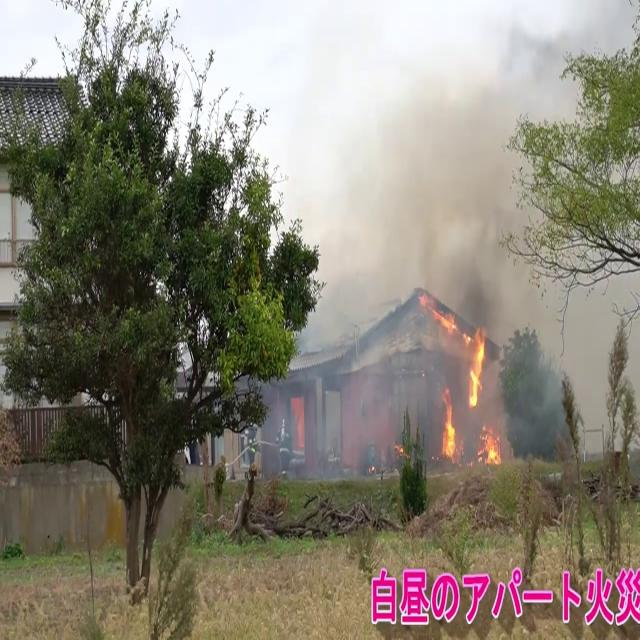Fire: (434, 289, 504, 467), (458, 314, 491, 411), (440, 390, 458, 462)
Smoke: (293, 24, 587, 447)
